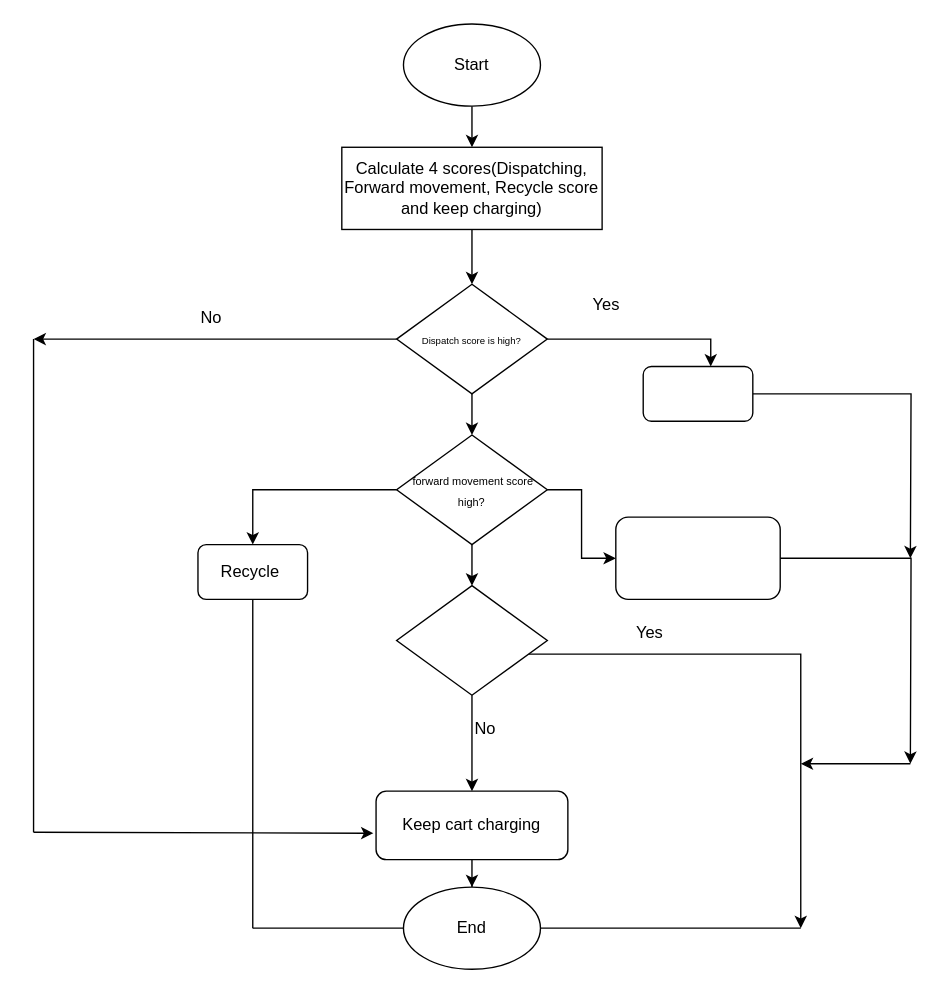
This 947x993 diagram has some shape labels left out. The centre of each missing label's shape, as x and y in pixels:
Dispatch: point 697,393
Move next or it will stay in a same position: point 697,557
Recycle sore is high?: point 471,639
